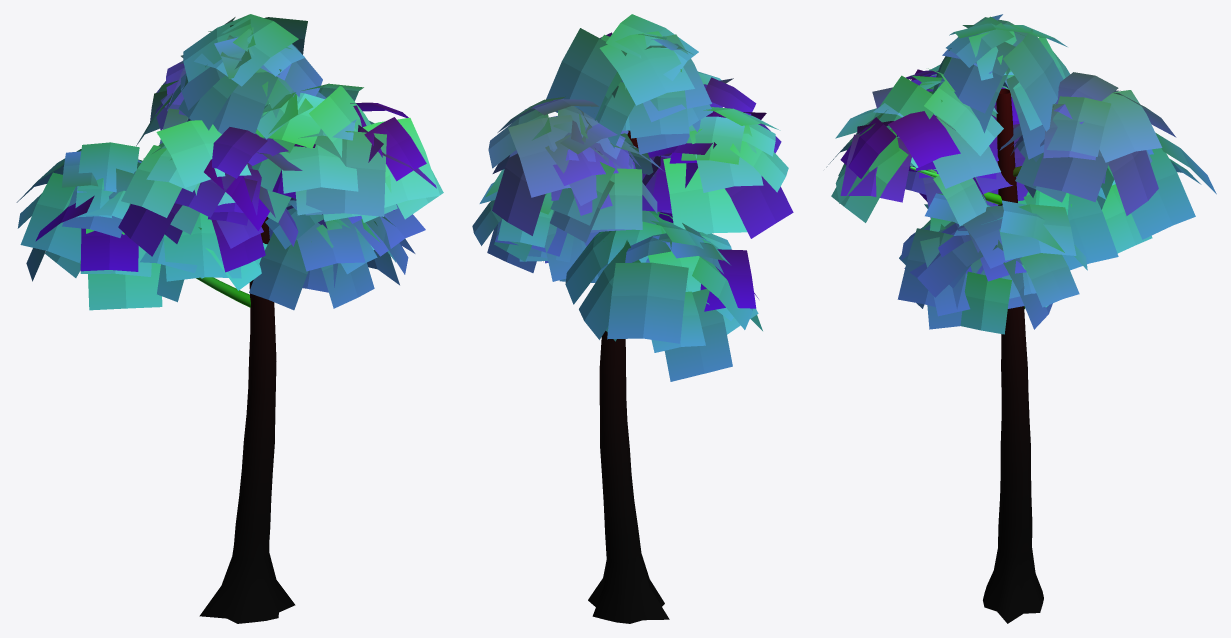
The model's file is Jungle4.fbx.
3 renders of one model, left to right at view 1: azimuth 30°, elevation 25°; view 2: azimuth 150°, elevation 25°; view 3: azimuth 270°, elevation 25°, orthographic. The views are drawn at different scales.
Parts seen in each view (by area): view 1: Jungle4; view 2: Jungle4; view 3: Jungle4.
Boxes of the visible parts, bbox=[...] form: Jungle4: bbox=[16, 14, 443, 623]; Jungle4: bbox=[472, 14, 793, 623]; Jungle4: bbox=[826, 14, 1216, 623].
Bounding box in the file's own units: 13.94 × 24.86 × 15.3.
